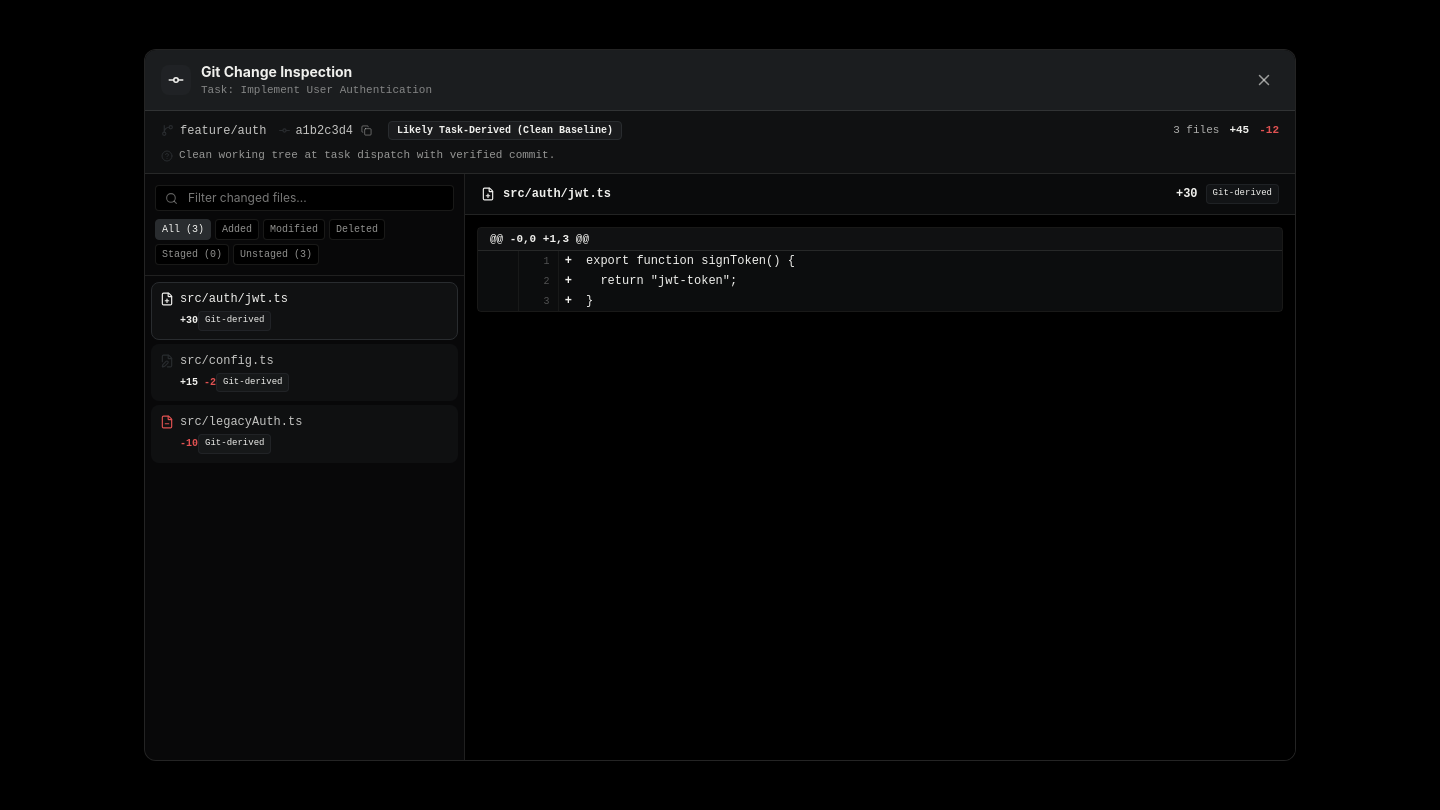
Scenario: GitDiffViewer UI Component › switches active file and displays unified diff hunks with line numbers
The width and height of the screenshot is (1440, 810).
Note: Click src/config.ts button in sidebar
Click the text titled "src/config.ts" at (227, 361), box [180,353,274,369]
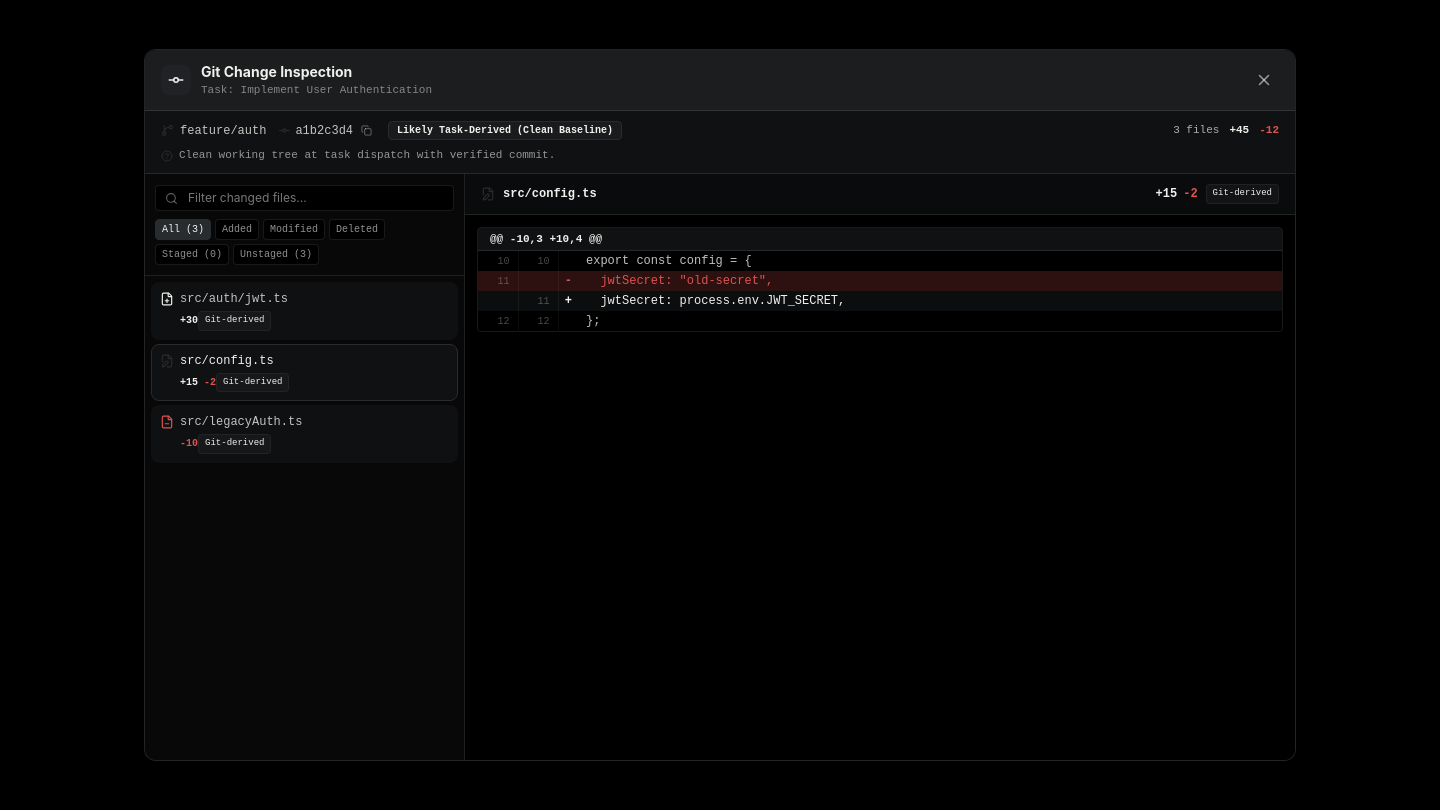
Result: the text "jwtSecret: process.env.JWT_SECRET," is shown at [578,291,1282,311]
Result: the text "jwtSecret: \"old-secret\"," is shown at [578,271,1282,291]
